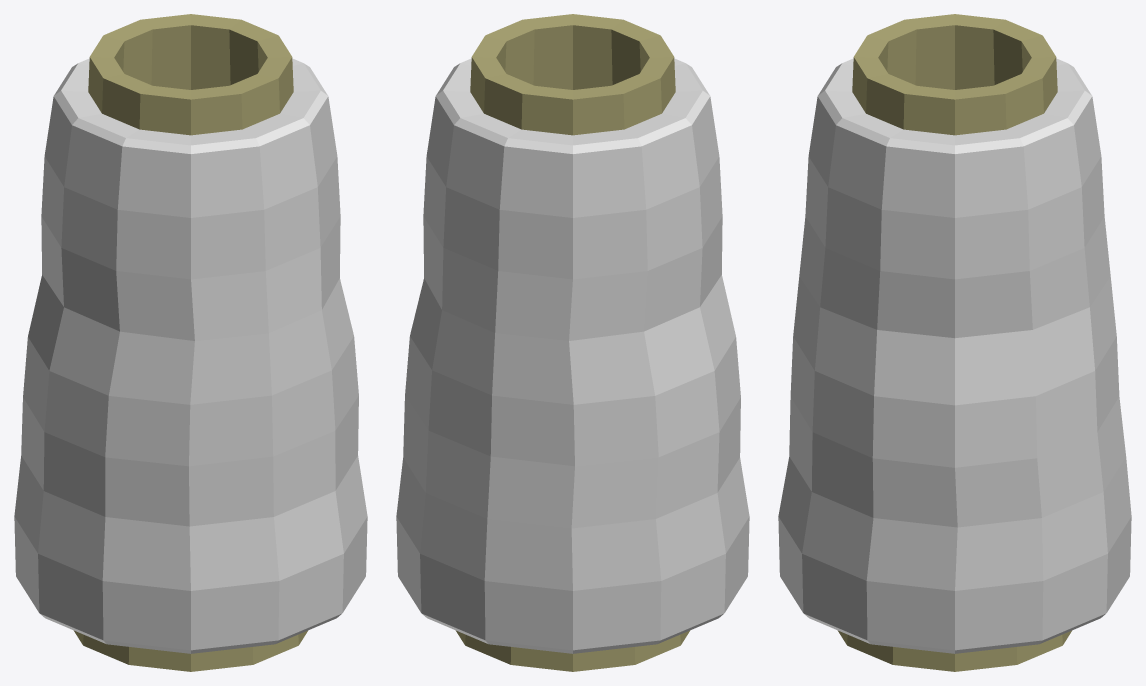
Rendered from Threads.fbx.
3 renders of one model, left to right at view 1: azimuth 30°, elevation 25°; view 2: azimuth 150°, elevation 25°; view 3: azimuth 270°, elevation 25°, orthographic.
Visible parts, largest first — view 1: Threads; view 2: Threads; view 3: Threads.
Boxes of the visible parts, x1,y1,x2,y2 form: Threads: [14, 14, 367, 671]; Threads: [396, 14, 749, 671]; Threads: [778, 14, 1131, 671].
Size of the model in its own units: 3.49 by 6.14 by 3.49.
